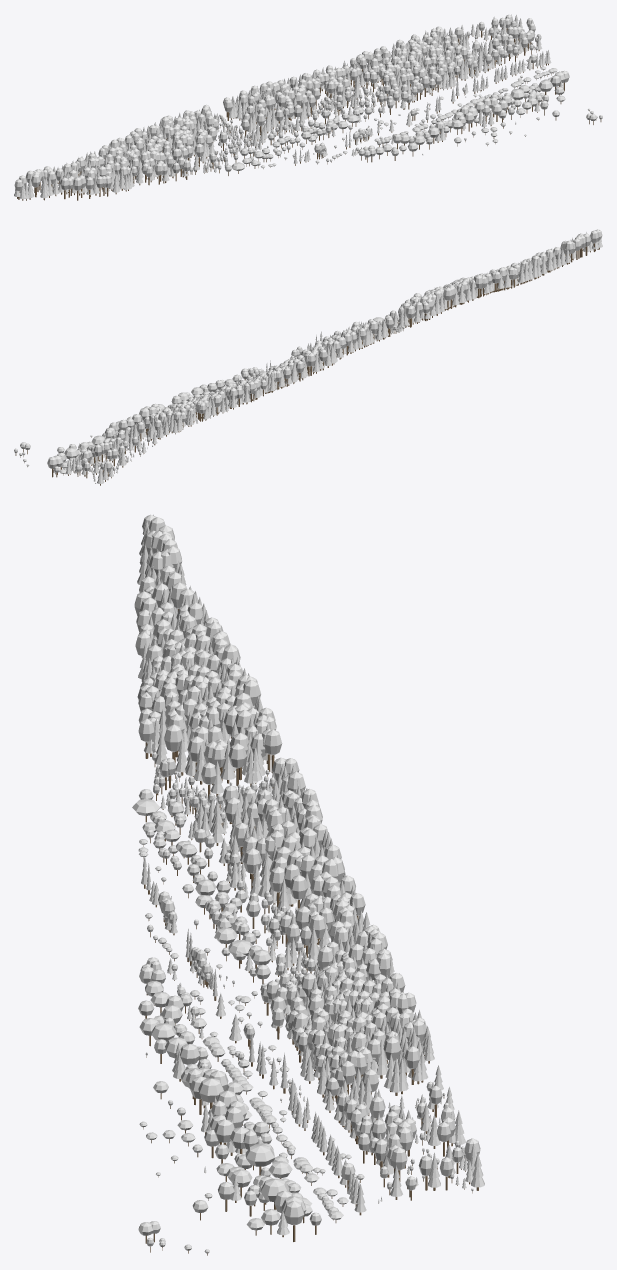
File: stromy.glb
The picture shows the model from 3 angles, top to bottom: view 1: azimuth 30°, elevation 25°; view 2: azimuth 210°, elevation 25°; view 3: azimuth 270°, elevation 25°; orthographic projection. The views are drawn at different scales.
Visible parts, largest first — view 1: Stromy_Listnate_07_02, Stromy_Ihlicnate_07_02; view 2: Stromy_Listnate_07_02, Stromy_Ihlicnate_07_02; view 3: Stromy_Listnate_07_02, Stromy_Ihlicnate_07_02.
Part boxes in pixels (box(x1,y1,x2,y2)): Stromy_Listnate_07_02: box(14, 14, 602, 200); Stromy_Ihlicnate_07_02: box(14, 14, 564, 200); Stromy_Listnate_07_02: box(14, 229, 602, 483); Stromy_Ihlicnate_07_02: box(53, 230, 602, 485); Stromy_Listnate_07_02: box(132, 514, 480, 1255); Stromy_Ihlicnate_07_02: box(137, 515, 484, 1237).
Size of the model in its own units: 1008 by 144 by 260.
